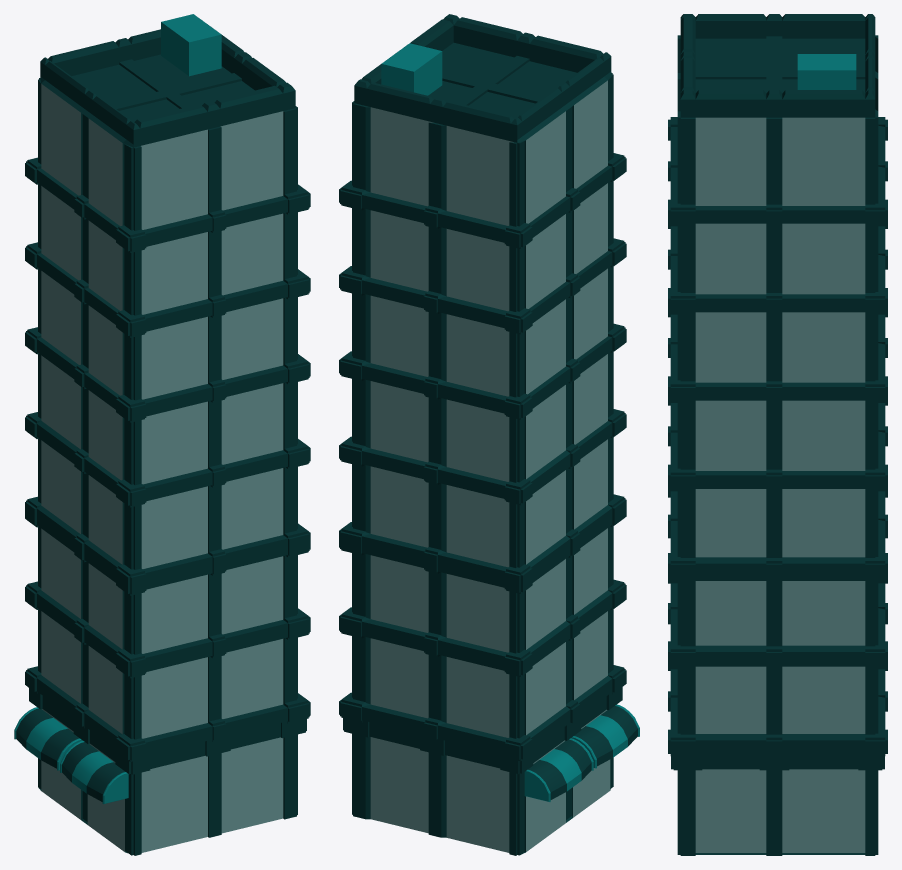
File: largeBuilding_M_v1_athena.FBX
The picture shows the model from 3 angles, left to right: view 1: azimuth 30°, elevation 25°; view 2: azimuth 150°, elevation 25°; view 3: azimuth 270°, elevation 25°; orthographic projection. The views are drawn at different scales.
Parts seen in each view (by area): view 1: large; view 2: large; view 3: large.
Part boxes in pixels (bbox=[...]): large: bbox=[14, 14, 310, 855]; large: bbox=[339, 14, 639, 855]; large: bbox=[668, 14, 887, 855].
Size of the model in its own units: 1259 by 4389 by 1128.
